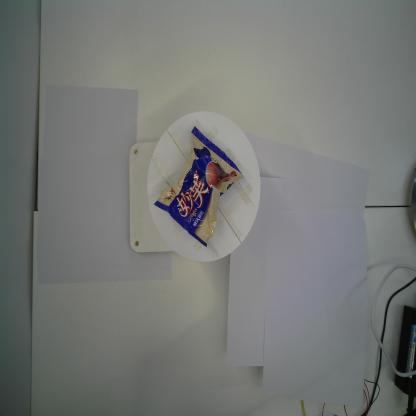Dessert: (153, 125, 244, 248)
